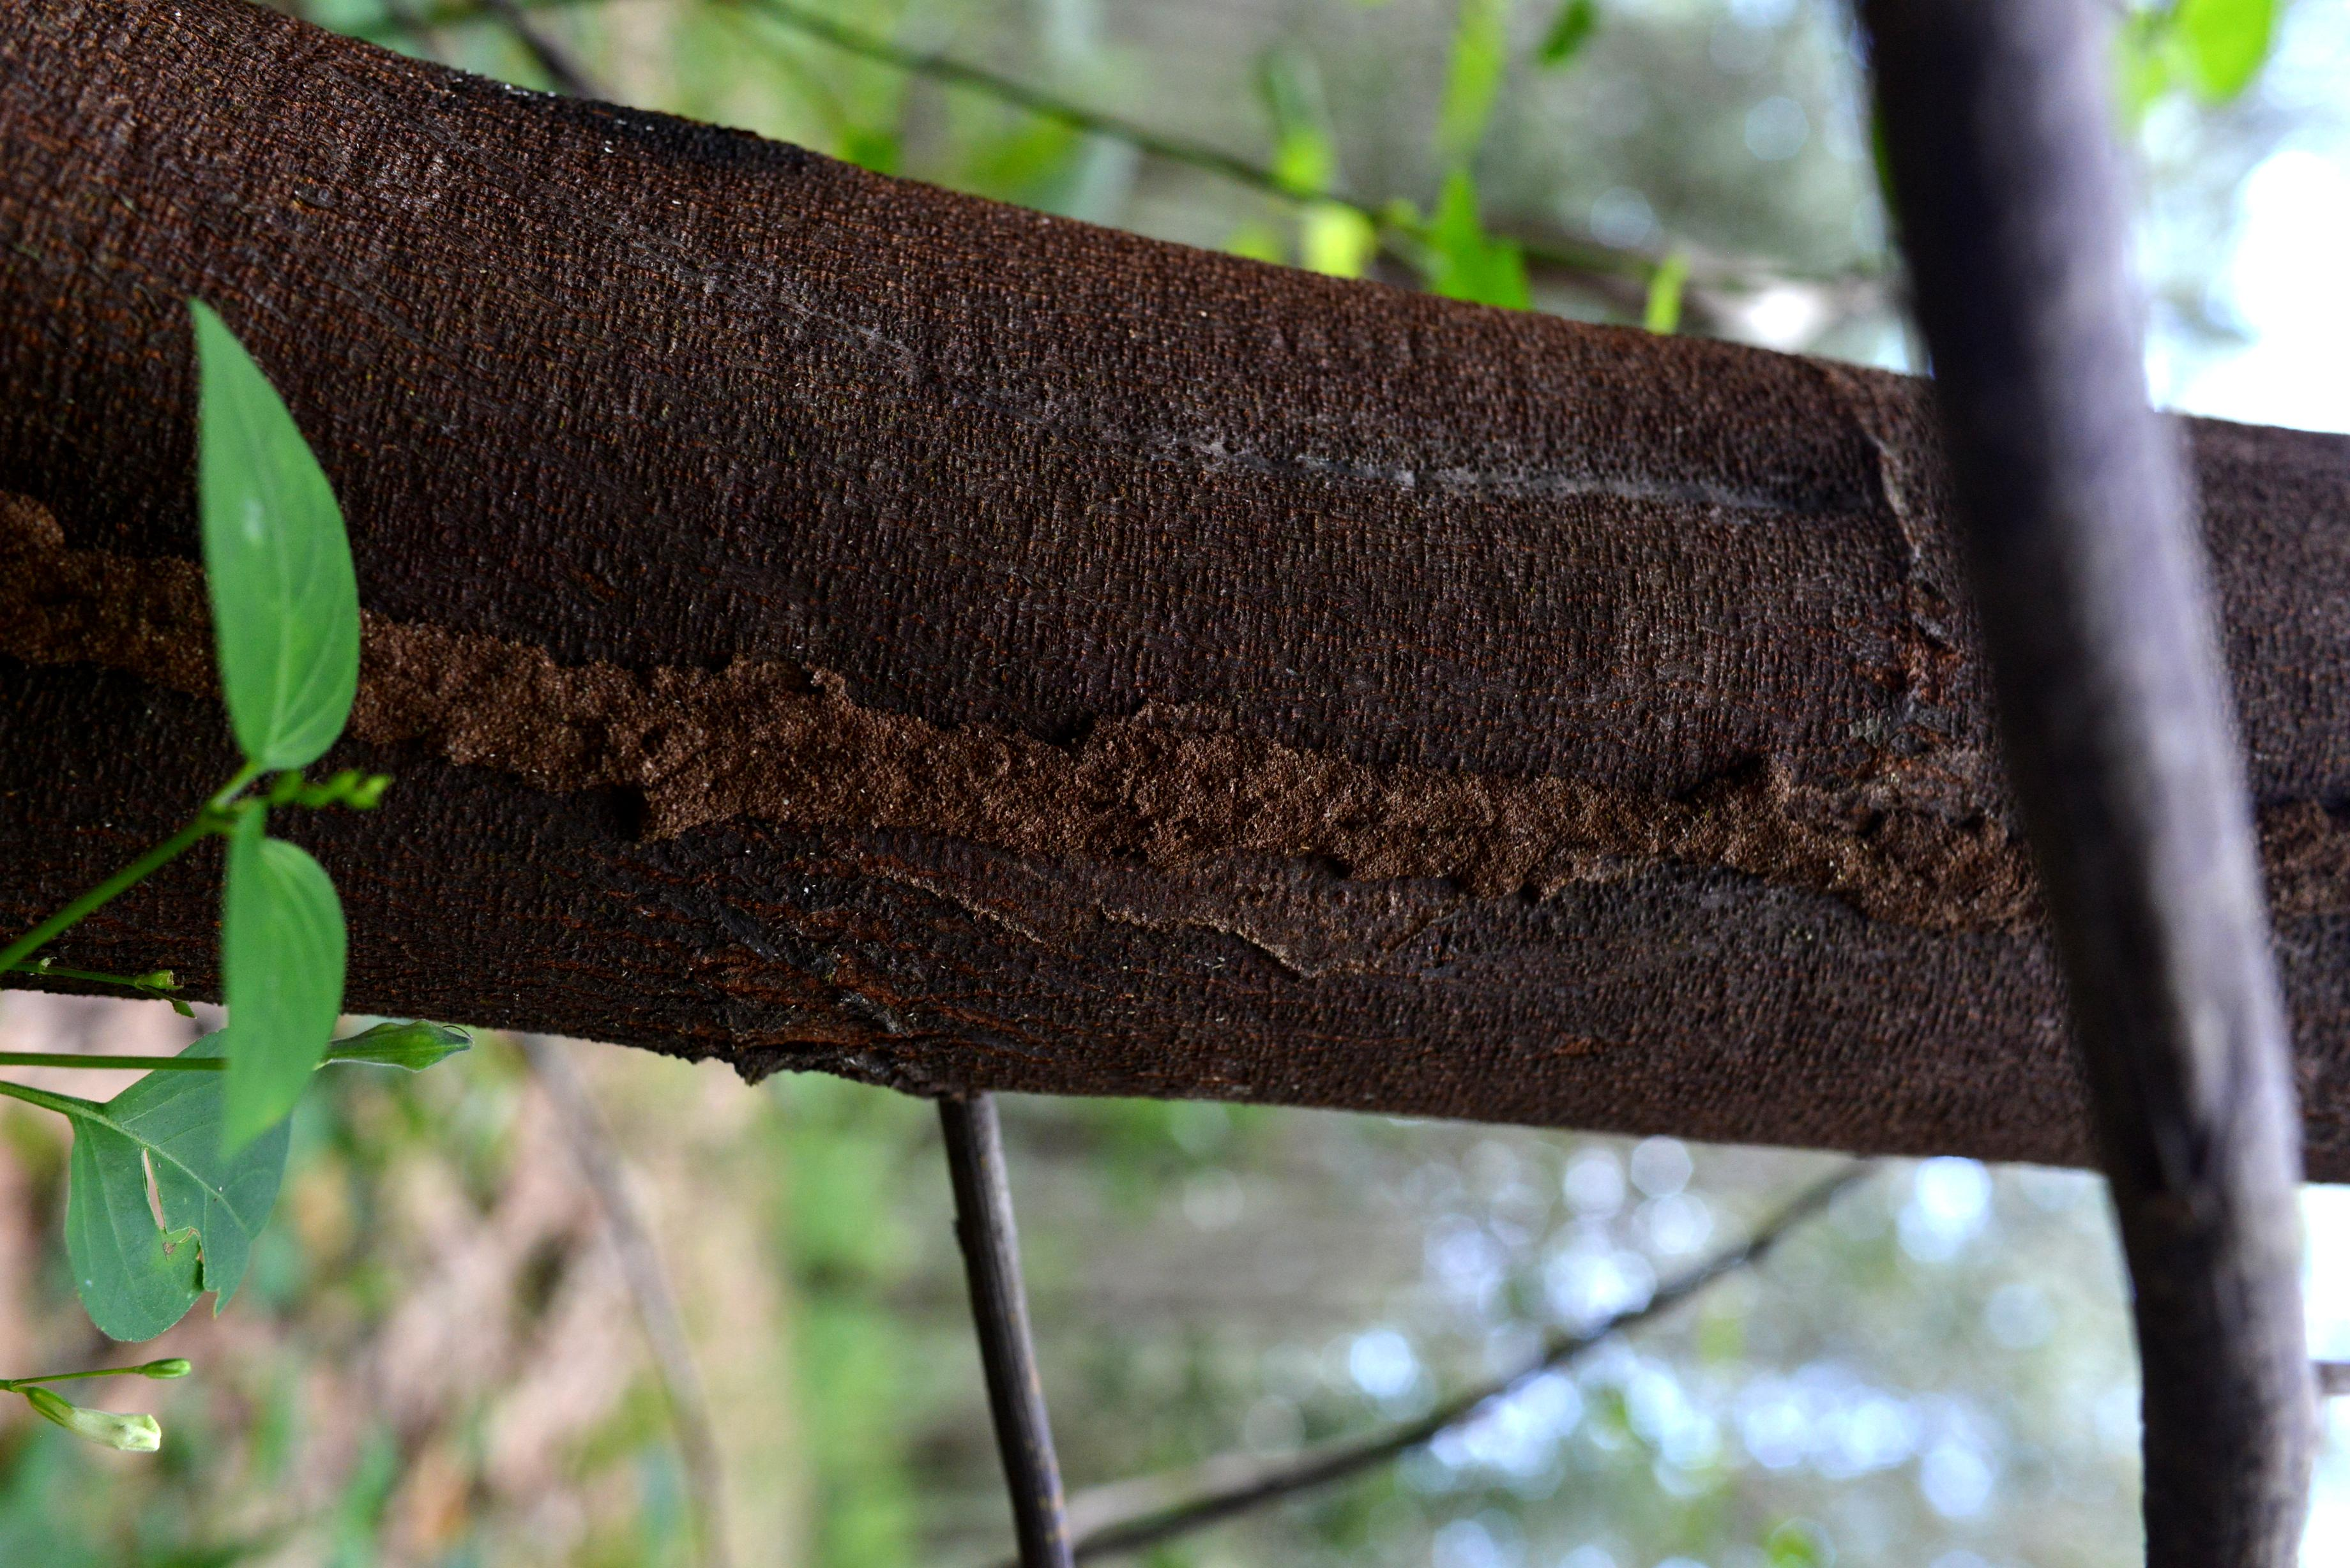Termite - Nest: (355, 611, 2007, 934), (0, 506, 203, 730), (2264, 786, 2350, 919)
